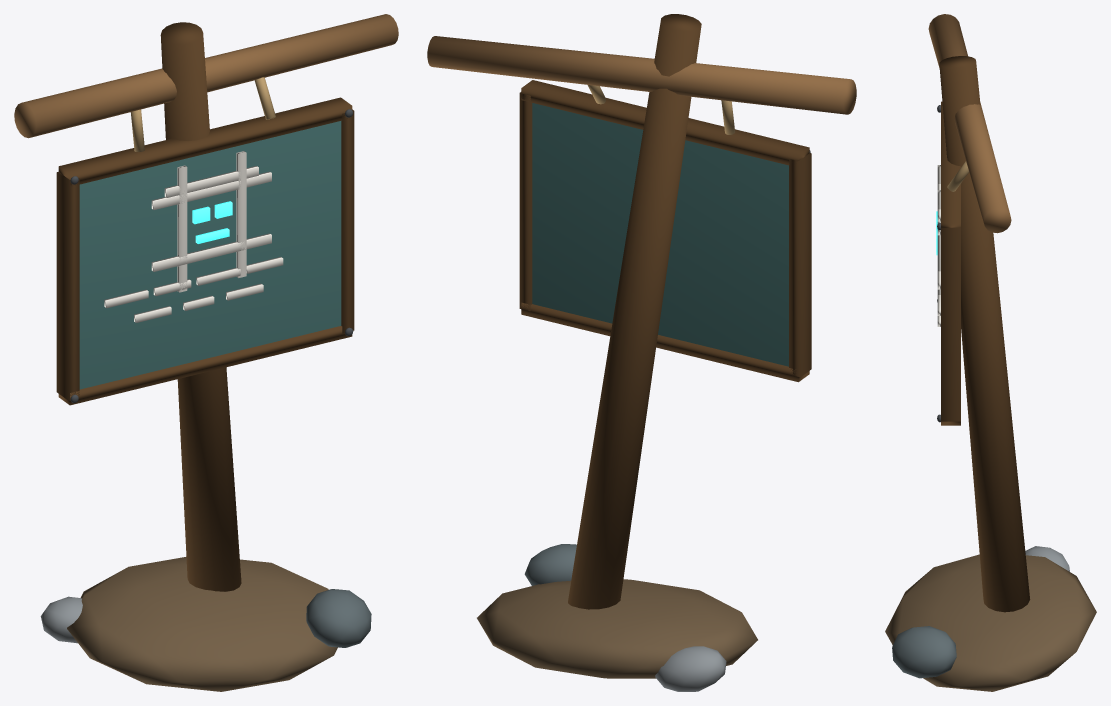
File: 3D模型 props_sign_post.glb
The picture shows the model from 3 angles, left to right: view 1: azimuth 30°, elevation 25°; view 2: azimuth 150°, elevation 25°; view 3: azimuth 270°, elevation 25°; orthographic projection. The views are drawn at different scales.
Visible parts, largest first — view 1: part_board, part_base, part_post, part_arm, part_frame_t, part_frame_l, part_frame_b, part_pebble_a, part_frame_r, part_pebble_b, part_face_b, part_face_r (+3 smaller); view 2: part_board, part_post, part_base, part_arm, part_frame_t, part_frame_l, part_frame_b, part_frame_r, part_pebble_b, part_pebble_a; view 3: part_post, part_base, part_arm, part_frame_r, part_pebble_a, part_frame_t, part_pebble_b.
Part boxes in pixels (<box>): part_board: <box>79,121,341,389</box>; part_base: <box>67,557,337,691</box>; part_post: <box>160,22,241,591</box>; part_arm: <box>14,14,398,138</box>; part_frame_t: <box>58,97,352,186</box>; part_frame_l: <box>56,172,79,400</box>; part_frame_b: <box>58,326,352,405</box>; part_pebble_a: <box>306,589,371,647</box>; part_frame_r: <box>341,109,354,333</box>; part_pebble_b: <box>40,596,82,643</box>; part_face_b: <box>151,233,271,271</box>; part_face_r: <box>236,151,246,277</box>; part_board: <box>532,103,788,366</box>; part_post: <box>568,14,701,609</box>; part_base: <box>477,579,757,678</box>; part_arm: <box>427,36,856,114</box>; part_frame_t: <box>521,80,809,165</box>; part_frame_l: <box>789,153,811,377</box>; part_frame_b: <box>521,302,809,382</box>; part_frame_r: <box>519,92,532,310</box>; part_pebble_b: <box>655,646,726,691</box>; part_pebble_a: <box>524,544,576,585</box>; part_post: <box>939,56,1030,612</box>; part_base: <box>885,554,1096,691</box>; part_arm: <box>928,14,1011,233</box>; part_frame_r: <box>941,227,960,421</box>; part_pebble_a: <box>892,626,956,678</box>; part_frame_t: <box>941,101,960,227</box>; part_pebble_b: <box>1025,546,1069,571</box>.
Size of the model in its own units: 0.6066 by 0.9521 by 0.3182.
